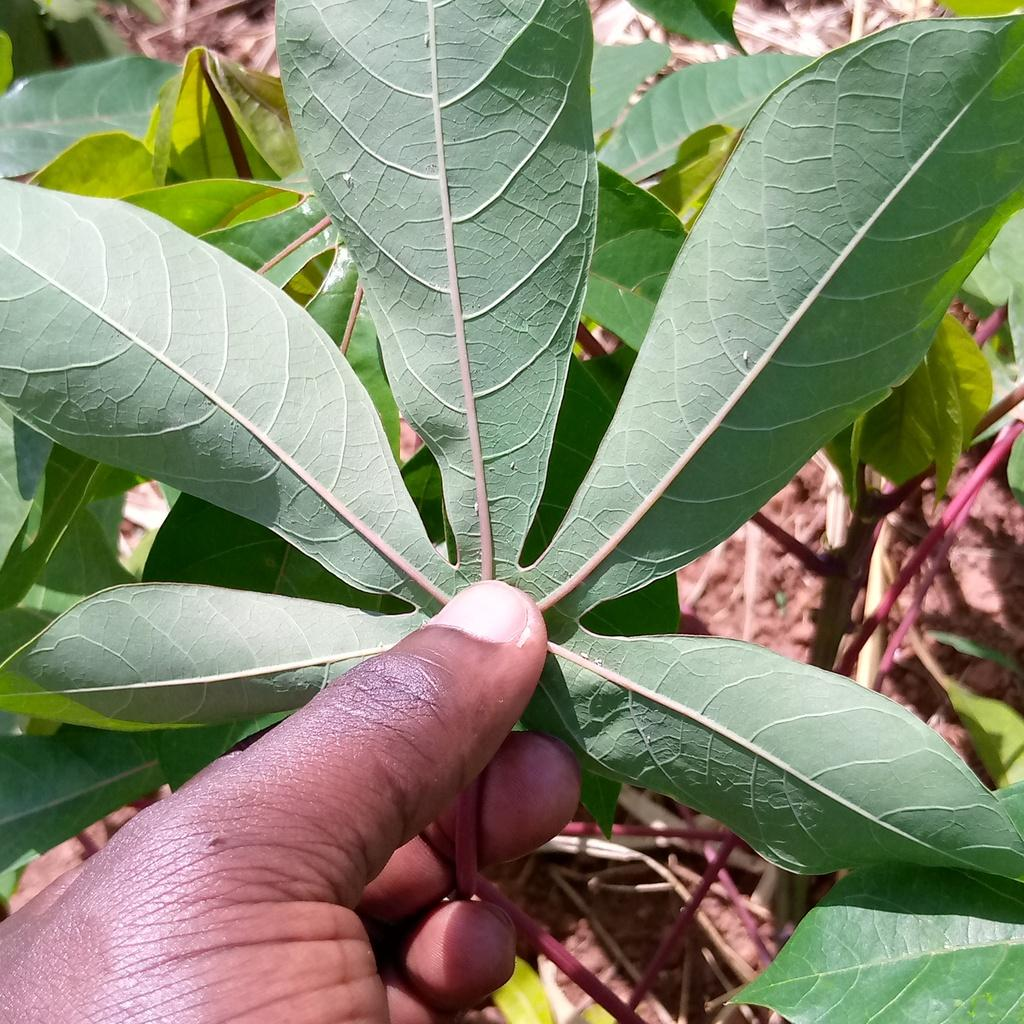adult: (473, 502, 479, 513), (343, 173, 351, 181), (424, 34, 428, 45), (743, 350, 747, 360)
